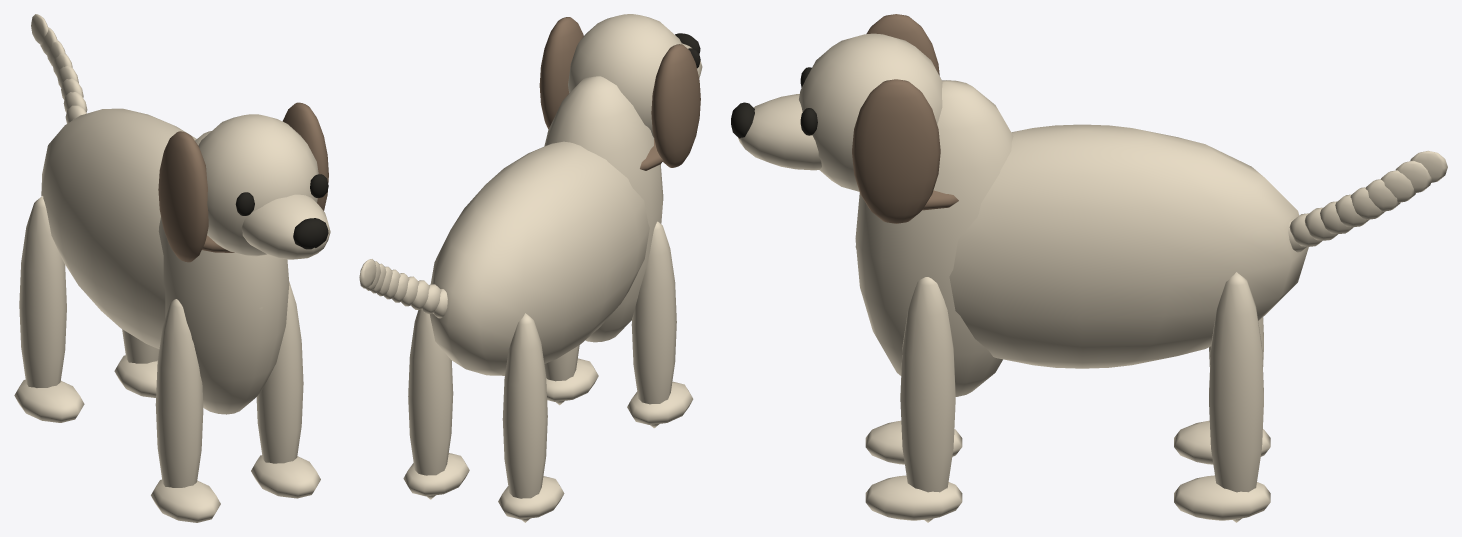
File: dog-hound.glb
3 views of the same model, side by side, from view 1: azimuth 30°, elevation 25°; view 2: azimuth 150°, elevation 25°; view 3: azimuth 270°, elevation 25° (orthographic). The views are drawn at different scales.
Bounding box in the file's own units: 0.3836 × 0.9575 × 1.37.
1 material, 1 textured.
